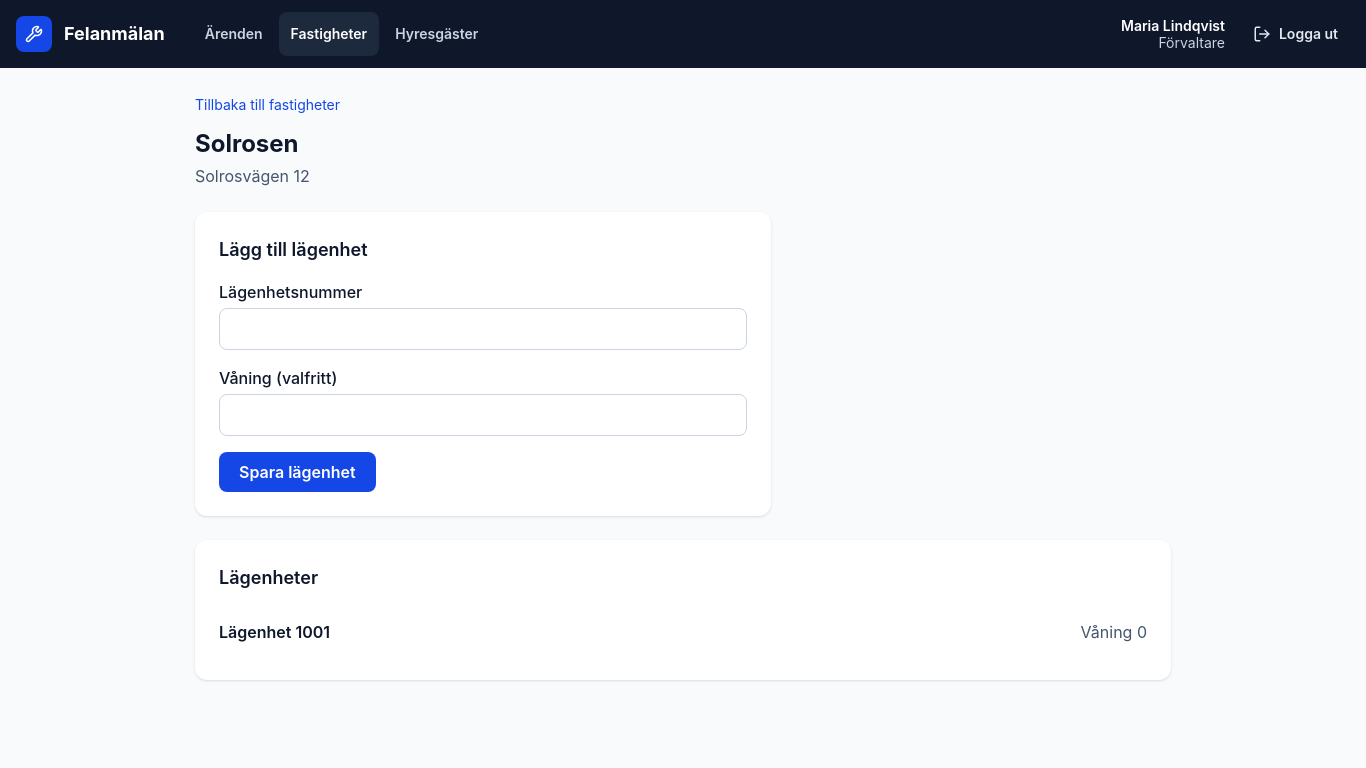
it: ApartmentsPage – issue #12 › visar fel för ett dubblettnummer i samma fastighet
Expected: the text "Lägenhet 1001" is shown, [219,620,330,644]
Type "1001" into the field labelled "Lägenhetsnummer" at (483, 329), box [219,308,747,350]
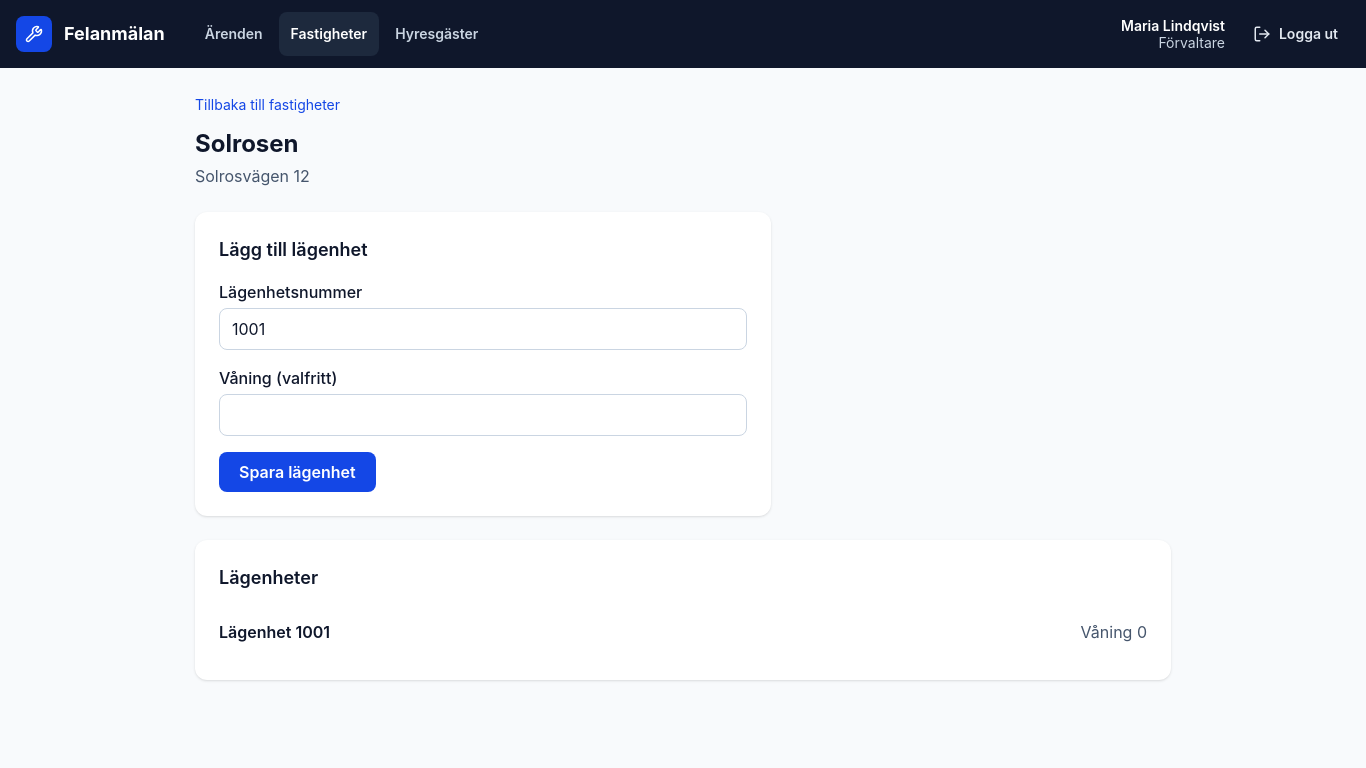
Type "1" into the number field labelled "Våning (valfritt)" at (483, 415), box [219,394,747,436]
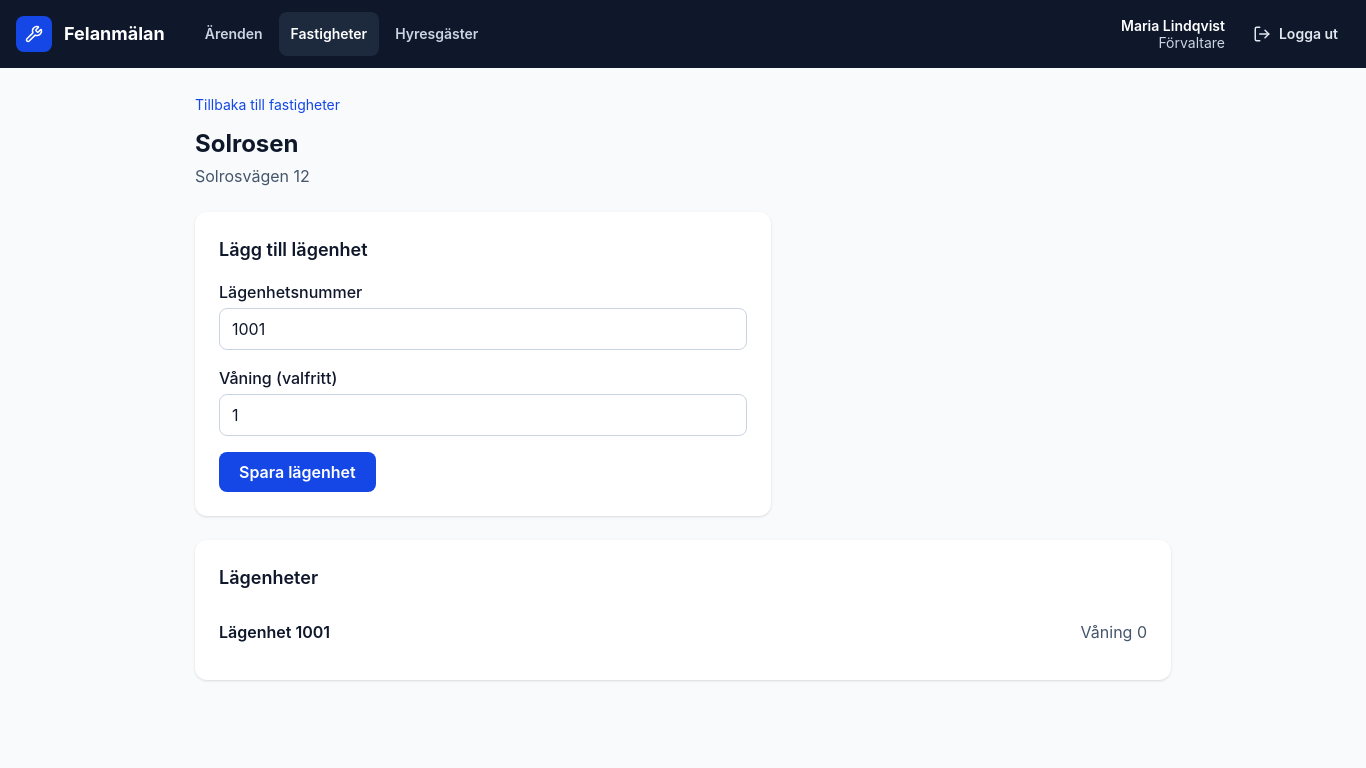
Click the button "Spara lägenhet" at (297, 472), box [219,452,376,492]
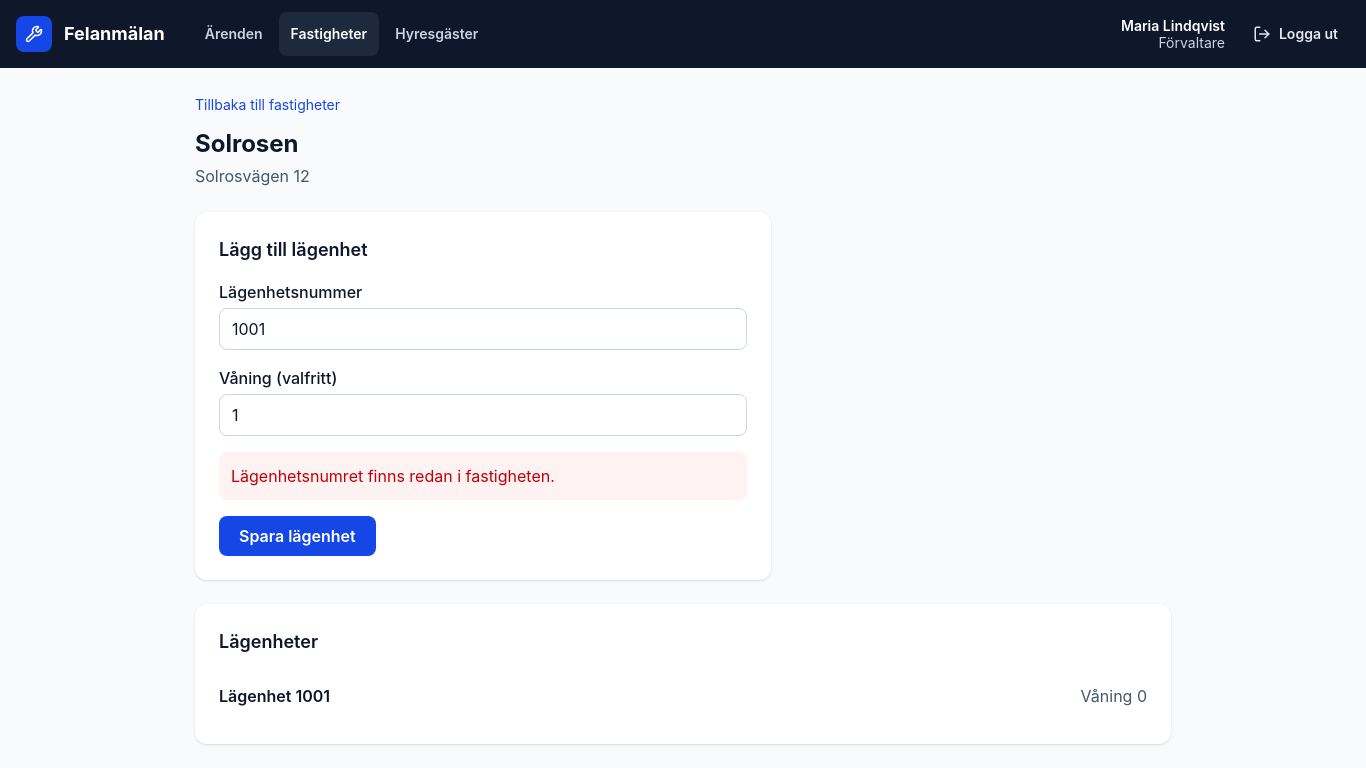
Expected: the text "Lägenhet 1001" is shown once, [219,684,330,708]
Expected: the text "Lägenhetsnumret finns redan i fastigheten." is shown, [219,452,747,500]
